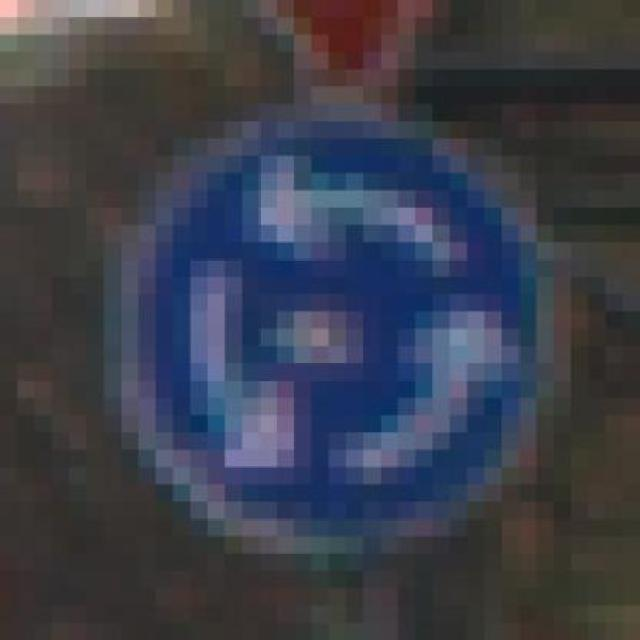Round-About: (69, 69, 588, 571)
